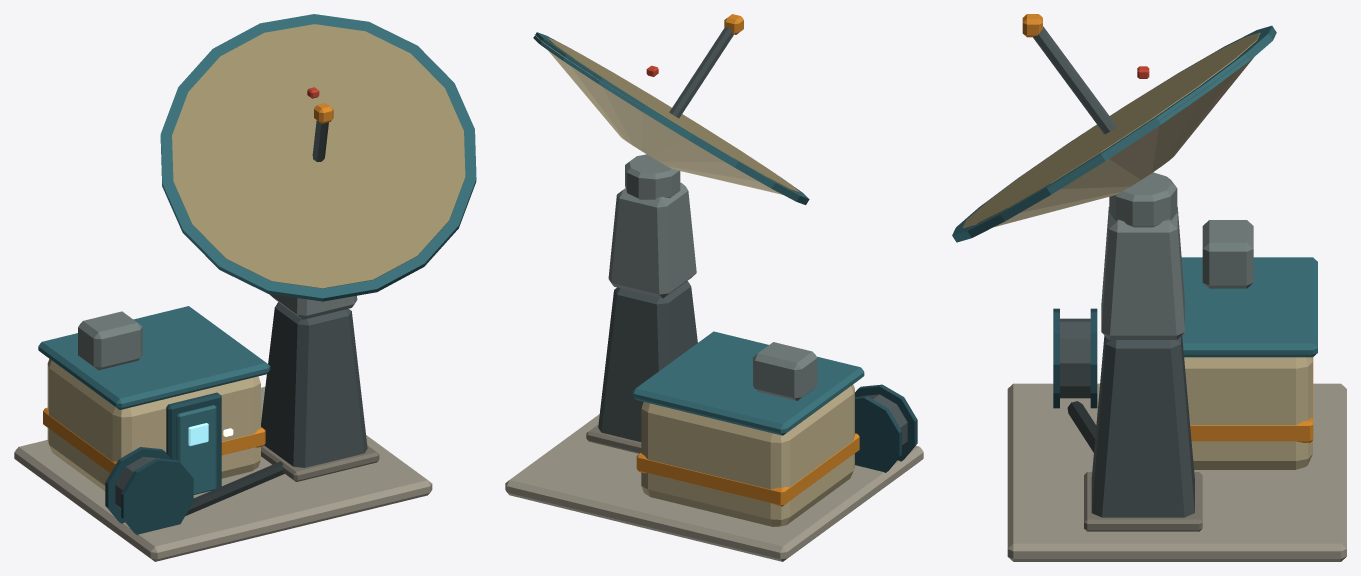
File: wb_comm_dish.glb
3 views of the same model, side by side, from view 1: azimuth 30°, elevation 25°; view 2: azimuth 150°, elevation 25°; view 3: azimuth 270°, elevation 25° (orthographic). The views are drawn at different scales.
Parts seen in each view (by area): view 1: wb_comm_dish; view 2: wb_comm_dish; view 3: wb_comm_dish.
Part boxes in pixels (x1=…): wb_comm_dish: x1=14, y1=14, x2=476, y2=561; wb_comm_dish: x1=505, y1=14, x2=923, y2=561; wb_comm_dish: x1=952, y1=14, x2=1346, y2=561.
Bounding box in the file's own units: 2.88 × 3.24 × 2.33.
